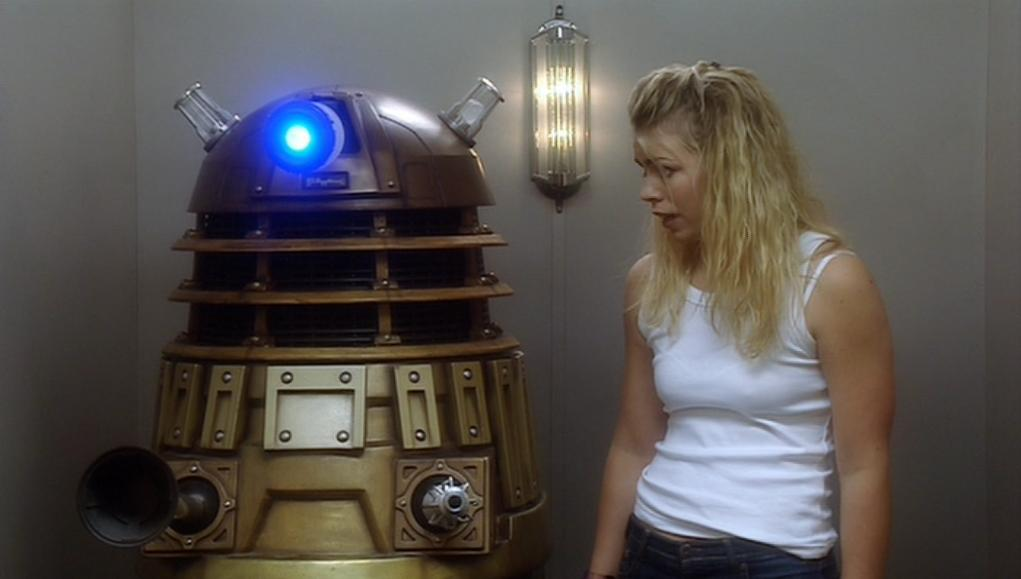dalek: (95, 46, 531, 579)
human: (566, 78, 916, 555)
